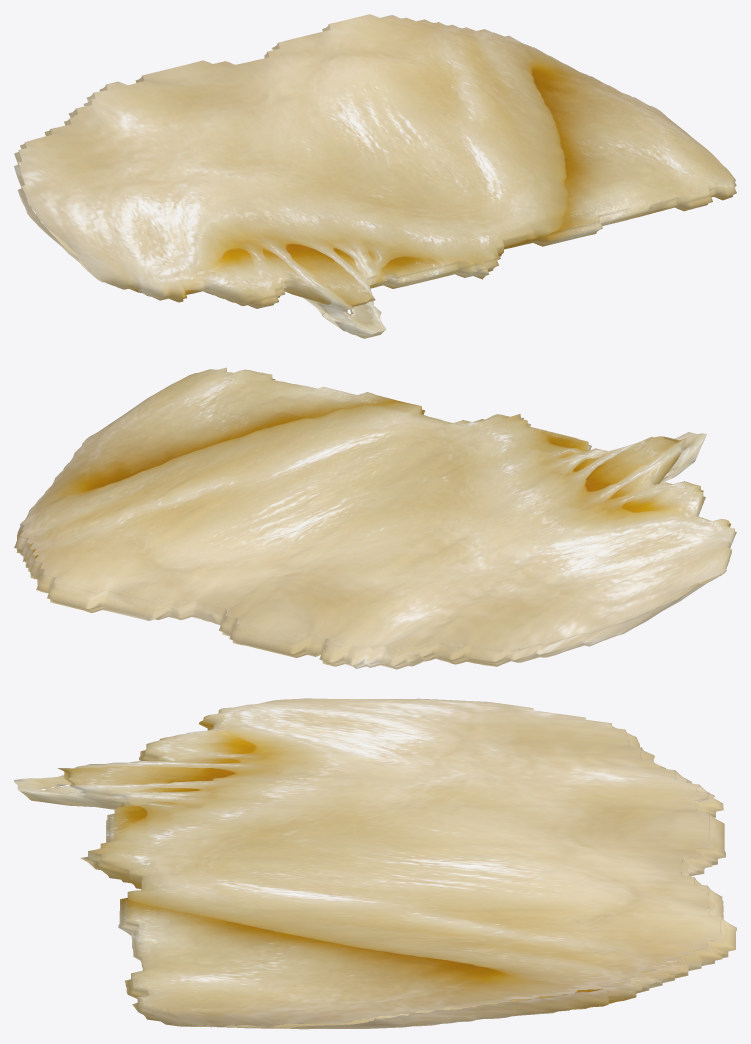
Rendered from mozzarella.glb.
3 renders of one model, top to bottom at view 1: azimuth 30°, elevation 25°; view 2: azimuth 150°, elevation 25°; view 3: azimuth 270°, elevation 25°, orthographic. The views are drawn at different scales.
Parts seen in each view (by area): view 1: mozzarella; view 2: mozzarella; view 3: mozzarella.
Part boxes in pixels (x1,y1,x2,y2): mozzarella: (14, 14, 736, 338); mozzarella: (14, 367, 736, 669); mozzarella: (14, 698, 736, 1029).
Bounding box in the file's own units: 0.93 × 0.049 × 0.88.
Materials: 1 (1 with a texture image).
